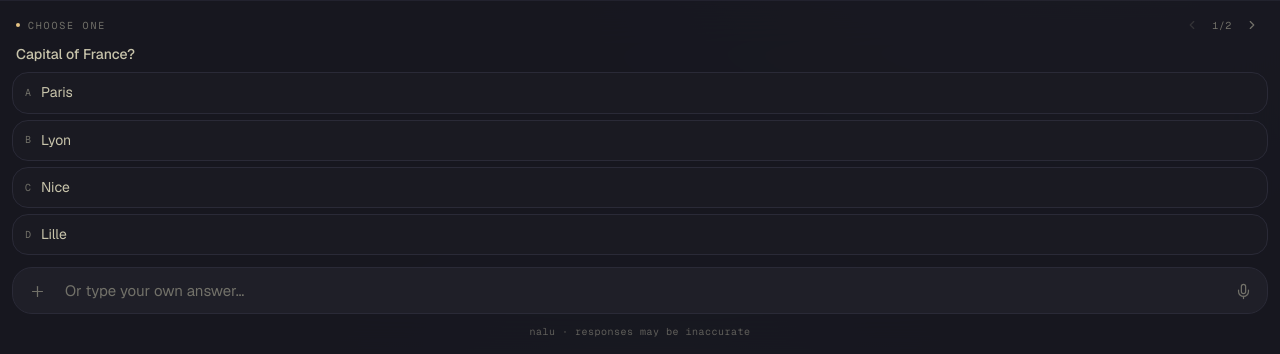
Composer unconfirmed MC pick › drops the pick when the textarea gains focus
Click the button "B Lyon" at [56, 140], box [12,120,1268,161]
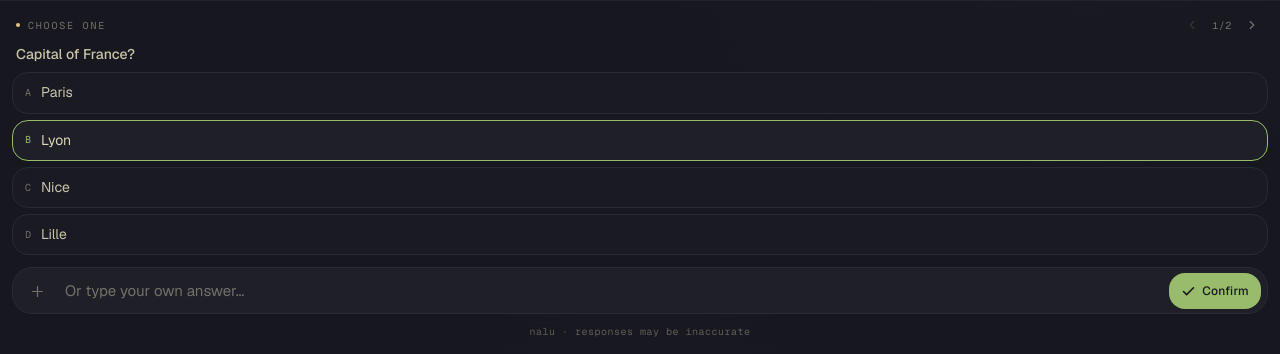
expect the button "Confirm" is shown: met, box [1169,273,1261,309]
Focus the text box at [612, 291], box [61,272,1163,309]
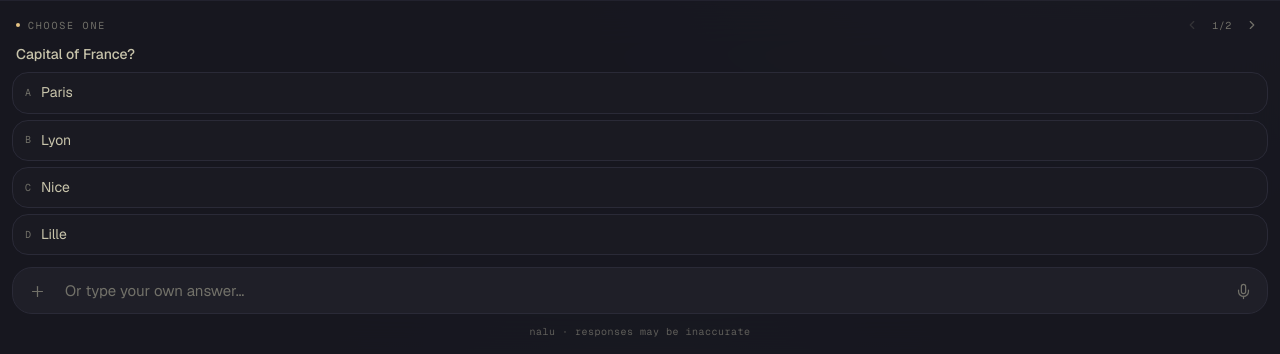
expect the text "Confirm" is gone: met
